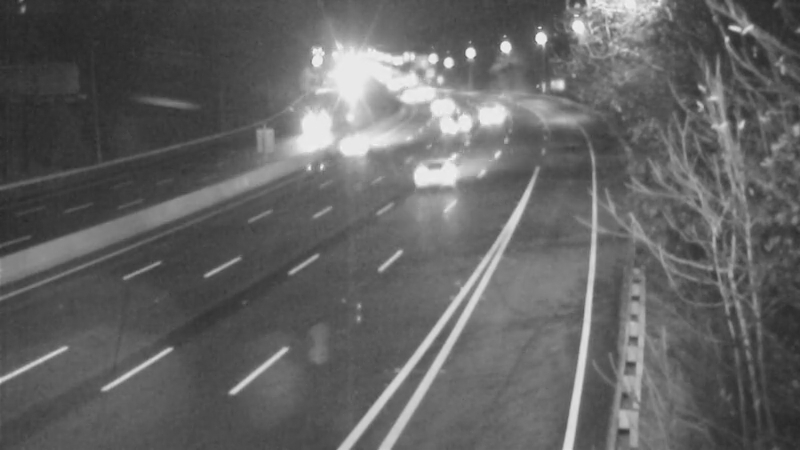vehicle: (402, 135, 482, 215), (401, 64, 451, 114), (383, 70, 433, 120), (413, 84, 463, 134), (462, 88, 512, 138), (433, 100, 483, 150), (329, 119, 379, 169), (284, 96, 334, 146)
